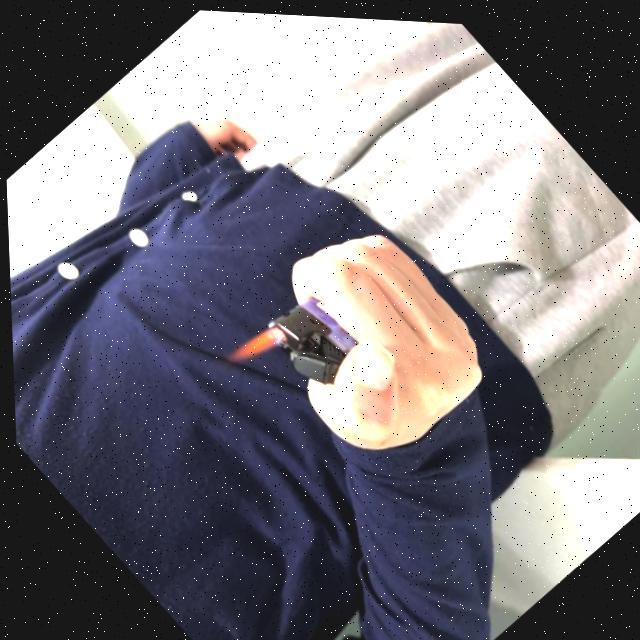Fire: (216, 311, 289, 382)
